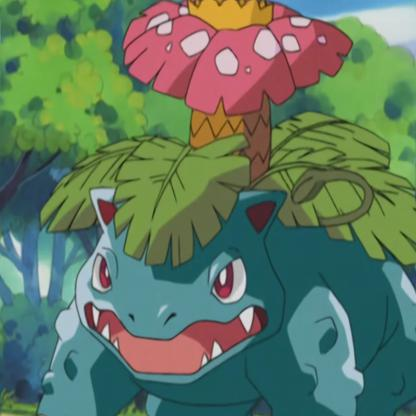Venusaur: (51, 1, 416, 416)
